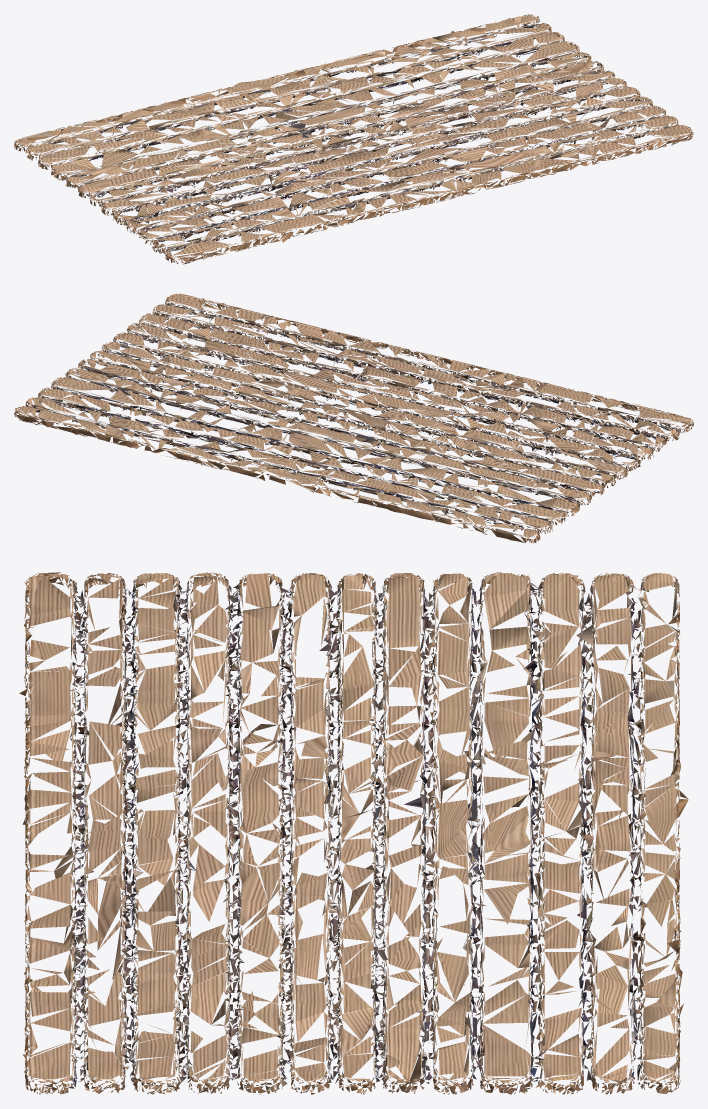
Rendered from mk2-shower-mat.glb.
The picture shows the model from 3 angles, top to bottom: view 1: azimuth 30°, elevation 25°; view 2: azimuth 150°, elevation 25°; view 3: azimuth 270°, elevation 25°; orthographic projection. The views are drawn at different scales.
Parts seen in each view (by area): view 1: mesh_node; view 2: mesh_node; view 3: mesh_node.
Boxes of the visible parts, x1,y1,x2,y2 form: mesh_node: (14, 14, 693, 264); mesh_node: (14, 293, 693, 543); mesh_node: (19, 572, 688, 1094).
Bounding box in the file's own units: 1.9 × 0.0301 × 1.05.
Materials: 1 (1 with a texture image).
